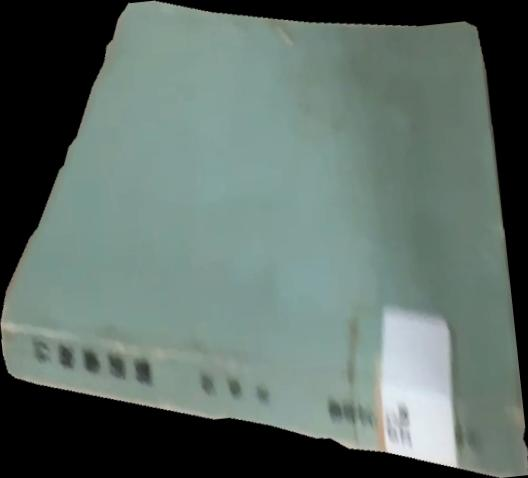flat: (1, 1, 528, 478)
